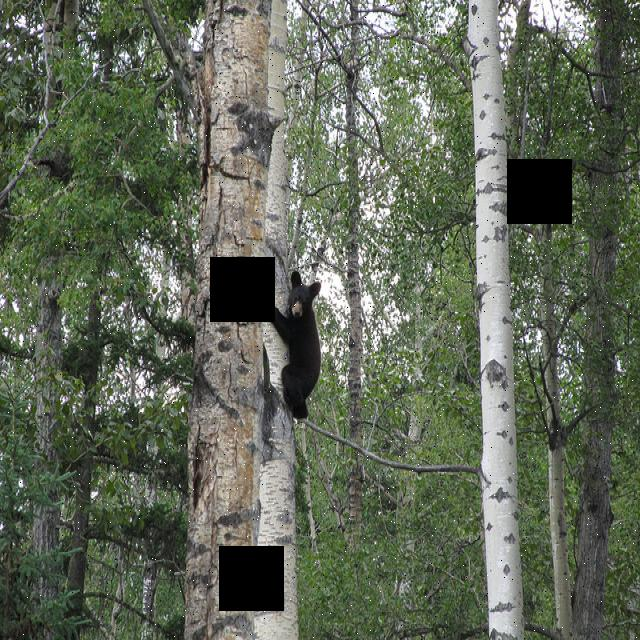Bear: (263, 273, 330, 432)
